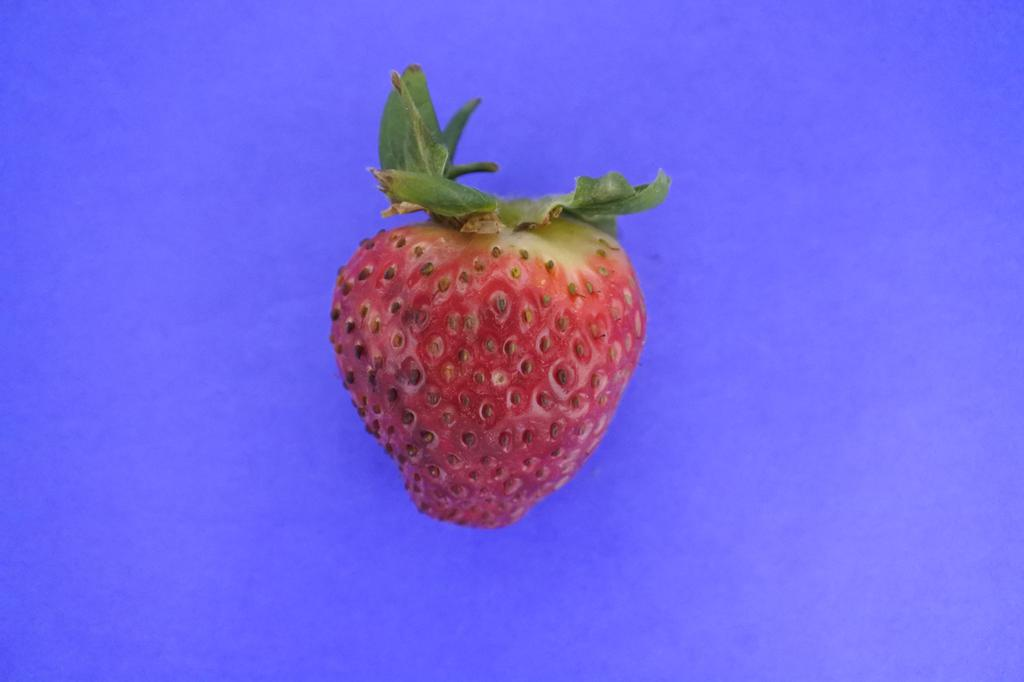red strawberry: (330, 64, 672, 533)
